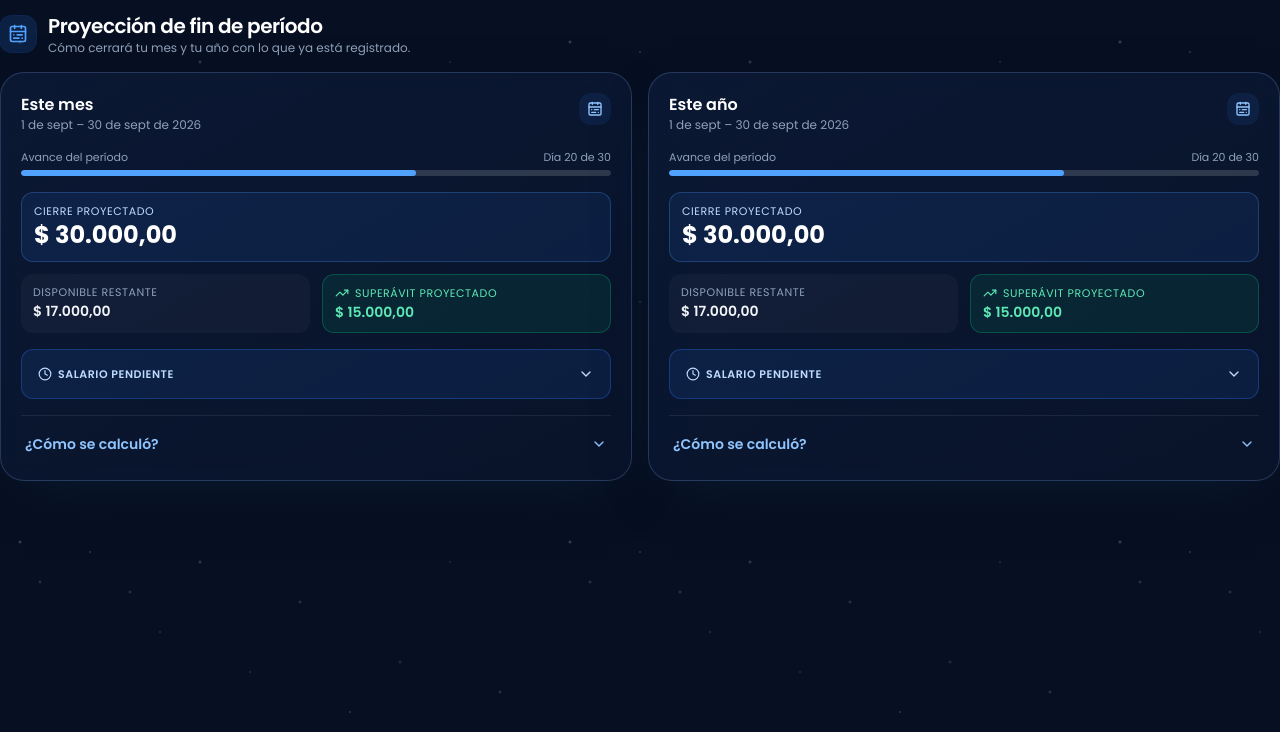
Test: ProjectionSection › expands the explainable breakdown into inflows and outflows
What coordinates should you click on to do the following:
click the button "¿Cómo se calculó?" below "Este mes"
I would click on:
 (92, 444)
Its box is [21,428,611,460].
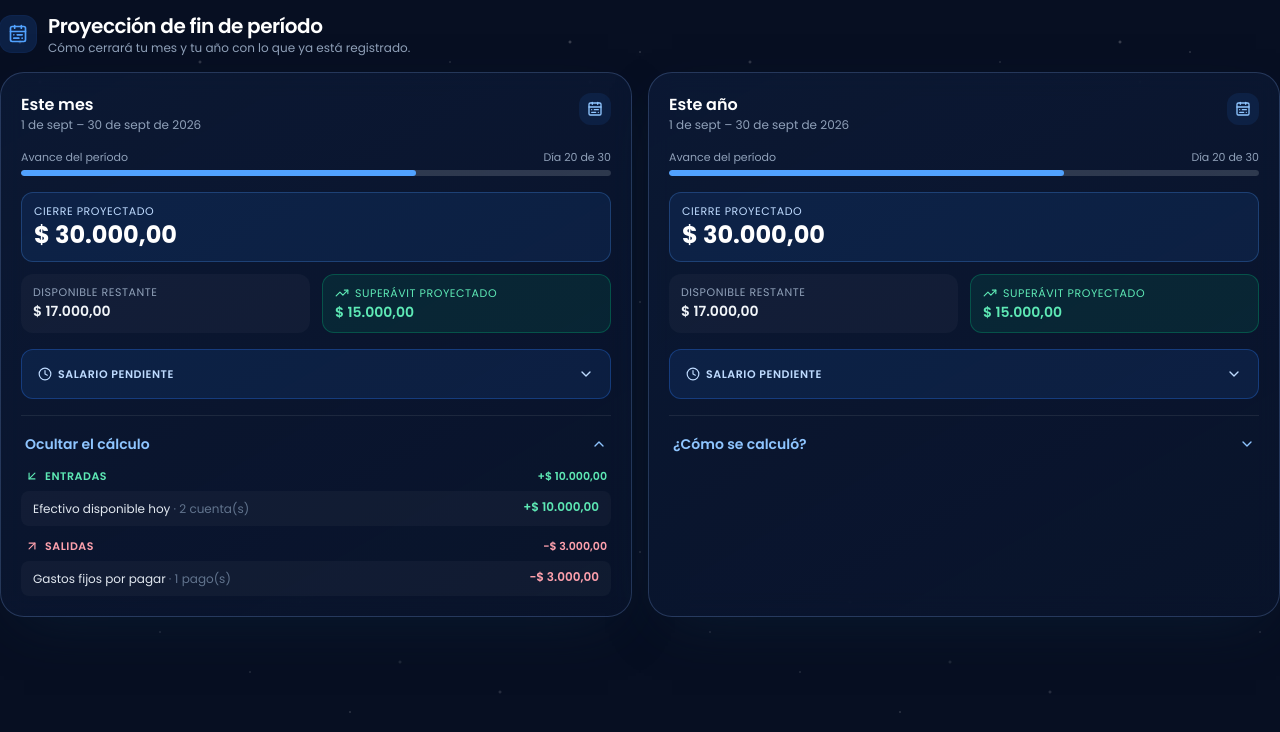
Check: the heading "Entradas" is shown, box [25,468,107,484]
Check: the heading "Salidas" is shown, box [25,538,94,554]
Check: the text "Efectivo disponible hoy" is shown, box [33,500,170,516]
